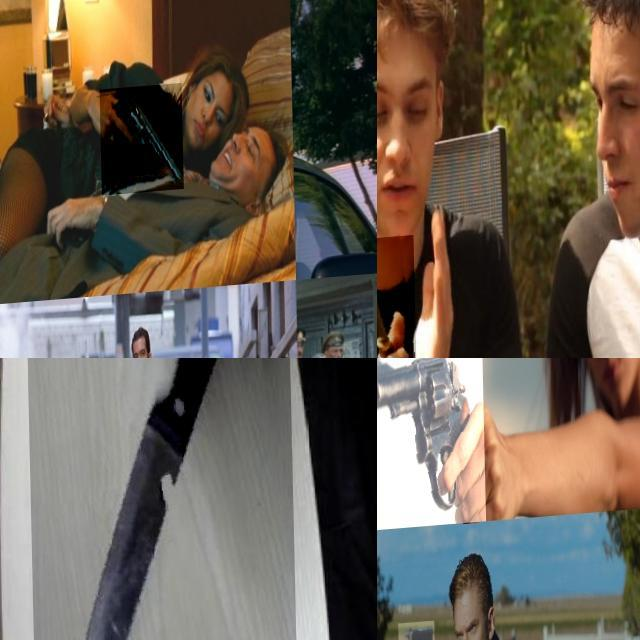-: (26, 358, 296, 640), (377, 237, 415, 358)
gun-knife-thesis - v11 Yolov5 augmented: (377, 358, 484, 536), (99, 86, 183, 198), (377, 384, 410, 533)
